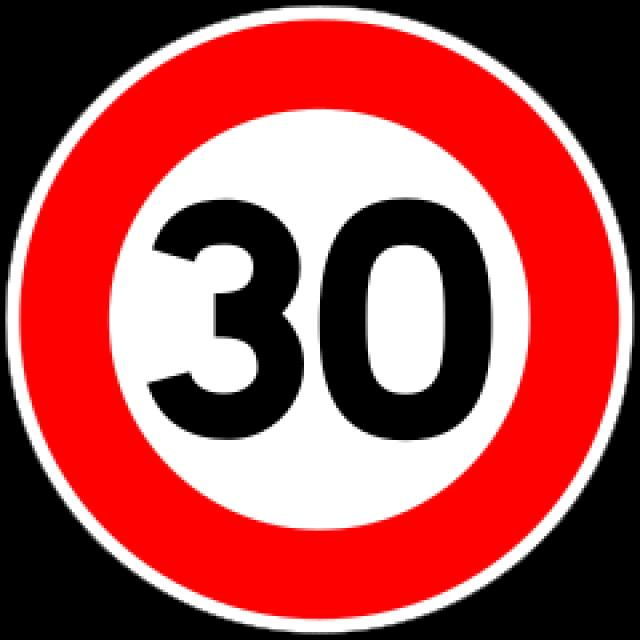Speed Limit -30-: (141, 189, 501, 449)
